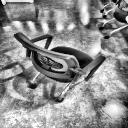chair_success: (12, 32, 109, 104)
